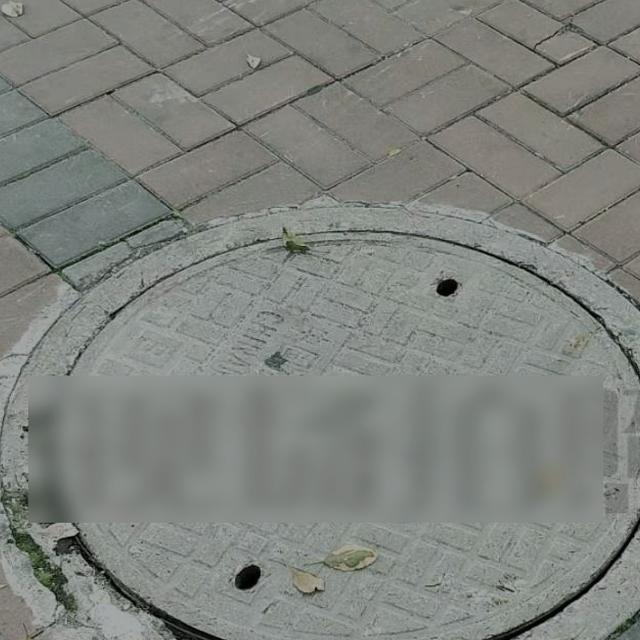good: (0, 215, 640, 640)
